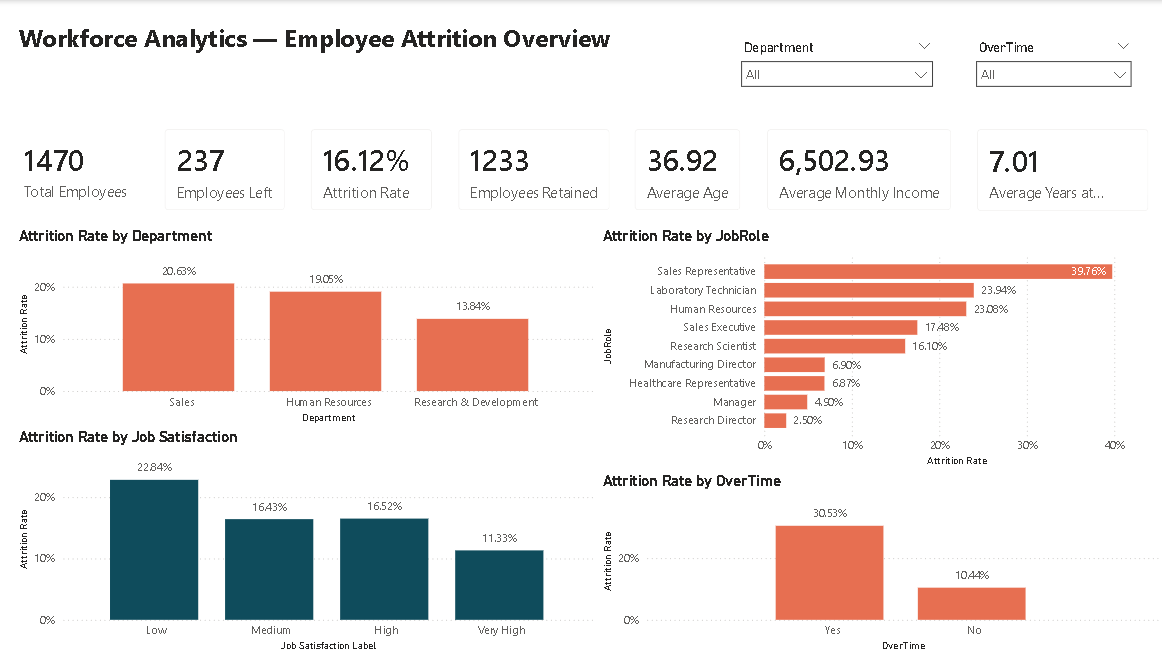

This screenshot's page, from the dashboard's own definition file:
{"tool":"powerbi","page":{"name":"Workforce Overview","canvas":[1280,720],"ordinal":0},"visuals":[{"type":"cardVisual","fields":{"Data":["Employees.Total Employees"]},"box":[0,124.9,171.5,123.5],"z":0},{"type":"cardVisual","fields":{"Data":["Employees.Employees Left"]},"box":[165.8,124.9,166,123.5],"z":1000},{"type":"cardVisual","fields":{"Data":["Employees.Attrition Rate"]},"box":[326.1,124.9,167.4,123.5],"z":2000},{"type":"cardVisual","fields":{"Data":["Employees.Employees Retained"]},"box":[487.8,124.9,200.3,123.5],"z":3000},{"type":"cardVisual","fields":{"Data":["Employees.Average Age"]},"box":[682.4,124.9,150.9,123.5],"z":4000},{"type":"cardVisual","fields":{"Data":["Employees.Average Monthly Income"]},"box":[827.7,124.9,236,123.5],"z":5000},{"type":"cardVisual","fields":{"Data":["Employees.Average Years at Company"]},"box":[1057.7,124.9,222.3,124.9],"z":6000},{"type":"clusteredColumnChart","fields":{"Category":["Employees.Department"],"Y":["Employees.Attrition Rate"]},"box":[17.8,248.4,640.8,220.9],"z":7000},{"type":"clusteredBarChart","fields":{"Category":["Employees.JobRole"],"Y":["Employees.Attrition Rate"]},"box":[658.7,248.4,621.6,269],"z":8000},{"type":"clusteredColumnChart","fields":{"Category":["Employees.OverTime"],"Y":["Employees.Attrition Rate"]},"box":[658.7,517.3,621.6,203.1],"z":9000},{"type":"clusteredColumnChart","title":"Attrition Rate by Job Satisfaction","fields":{"Y":["Employees.Attrition Rate"],"Category":["Employees.Job Satisfaction Label"]},"box":[17.8,469.3,640.8,251.1],"z":10000},{"type":"textbox","box":[17.8,17.8,728.6,63.1],"z":11000},{"type":"slicer","fields":{"Values":["Employees.Department"]},"box":[805.5,38.4,230.5,85.1],"z":12000},{"type":"slicer","fields":{"Values":["Employees.OverTime"]},"box":[1063.5,38.4,190.7,85.1],"z":13000}]}

Visuals, with their boxes in screenshot pixels (x1, y1, x2, y2), scaled from the page's 1280x720 canvas onto the 1162x652 screenshot:
cardVisual - Employees.Total Employees: 0/113/156/225
cardVisual - Employees.Employees Left: 151/113/301/225
cardVisual - Employees.Attrition Rate: 296/113/448/225
cardVisual - Employees.Employees Retained: 443/113/625/225
cardVisual - Employees.Average Age: 619/113/756/225
cardVisual - Employees.Average Monthly Income: 751/113/966/225
cardVisual - Employees.Average Years at Company: 960/113/1161/226
clusteredColumnChart - Employees.Department x Employees.Attrition Rate: 16/225/598/425
clusteredBarChart - Employees.JobRole x Employees.Attrition Rate: 598/225/1161/469
clusteredColumnChart - Employees.OverTime x Employees.Attrition Rate: 598/468/1161/651
"Attrition Rate by Job Satisfaction" clusteredColumnChart: 16/425/598/651
textbox: 16/16/678/73
slicer - Employees.Department: 731/35/940/112
slicer - Employees.OverTime: 965/35/1139/112
